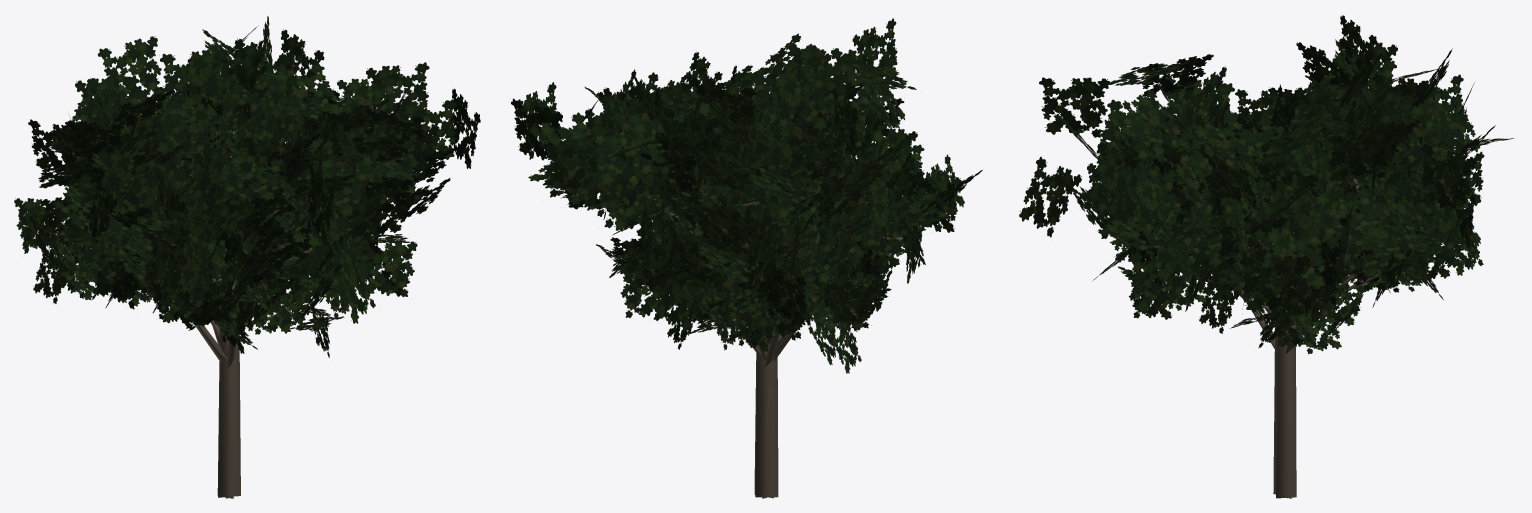
Rendered from agac.glb.
3 renders of one model, left to right at view 1: azimuth 30°, elevation 25°; view 2: azimuth 150°, elevation 25°; view 3: azimuth 270°, elevation 25°, orthographic. The views are drawn at different scales.
Visible parts, largest first — view 1: AGAC_CINAR3.001, AGAC_CINAR2.001, AGAC_CINAR1.001, AGAC_CINAR0.001; view 2: AGAC_CINAR3.001, AGAC_CINAR2.001, AGAC_CINAR1.001, AGAC_CINAR0.001; view 3: AGAC_CINAR3.001, AGAC_CINAR2.001, AGAC_CINAR0.001, AGAC_CINAR1.001.
Boxes of the visible parts, left/top/right/bottom form: AGAC_CINAR3.001: left=74, top=16, right=480, bottom=497; AGAC_CINAR2.001: left=28, top=64, right=425, bottom=498; AGAC_CINAR1.001: left=14, top=103, right=306, bottom=498; AGAC_CINAR0.001: left=51, top=211, right=389, bottom=498; AGAC_CINAR3.001: left=511, top=18, right=982, bottom=497; AGAC_CINAR2.001: left=560, top=45, right=964, bottom=498; AGAC_CINAR1.001: left=619, top=132, right=936, bottom=498; AGAC_CINAR0.001: left=596, top=213, right=901, bottom=498; AGAC_CINAR3.001: left=1019, top=48, right=1475, bottom=498; AGAC_CINAR2.001: left=1082, top=15, right=1513, bottom=498; AGAC_CINAR0.001: left=1110, top=196, right=1452, bottom=498; AGAC_CINAR1.001: left=1097, top=89, right=1483, bottom=328.
Bounding box in the file's own units: 11.95 × 11.92 × 12.5.
Materials: 2 (1 with a texture image).
